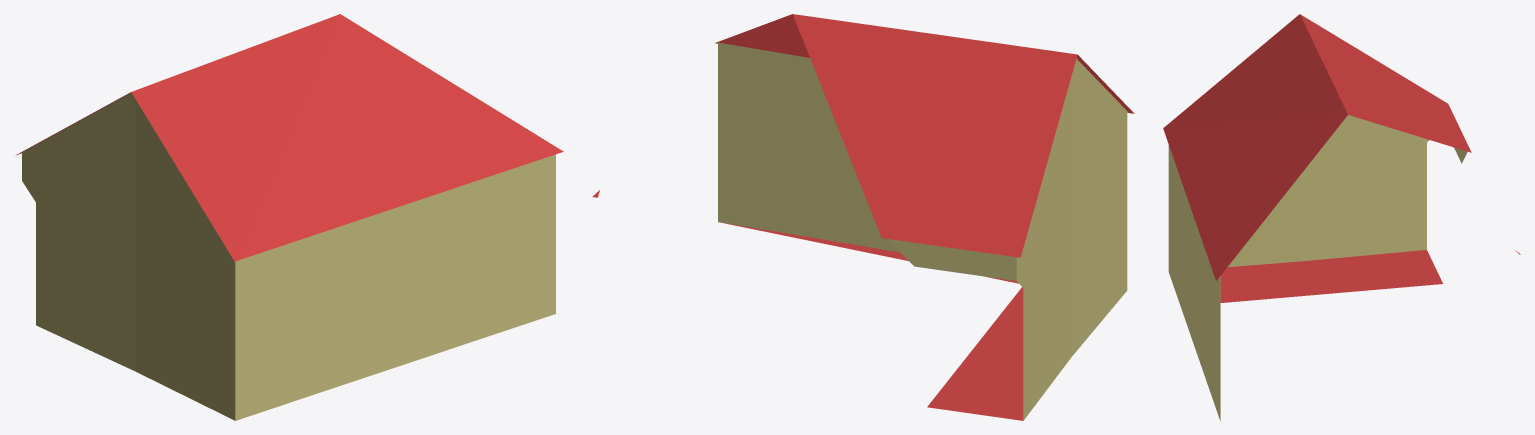
3 views of the same model, side by side, from view 1: azimuth 30°, elevation 25°; view 2: azimuth 150°, elevation 25°; view 3: azimuth 270°, elevation 25° (orthographic). The views are drawn at different scales.
Bounding box in the file's own units: 21.58 × 18.36 × 13.9.
